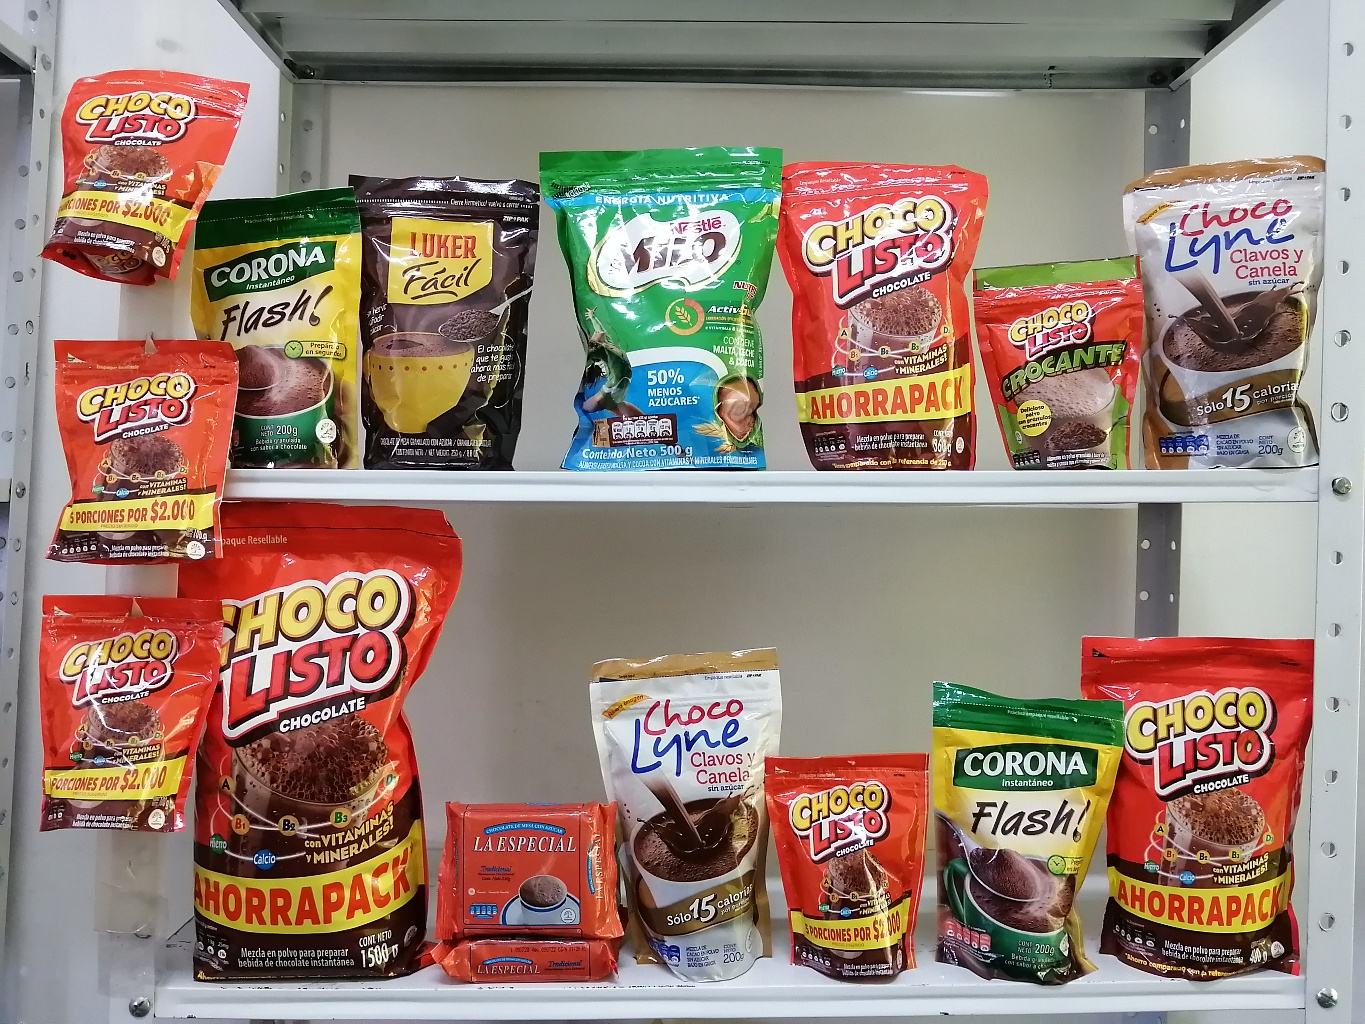COL0170102DYP10000: (953, 237, 1164, 482)
COL0170103DYP1,500: (163, 487, 472, 989)
COL0170103DYP10000: (756, 737, 938, 1000)
COL0170103DYP36000: (755, 147, 1007, 486)
COL0170103DYP40000: (1064, 612, 1328, 997)
COL0170205DYP50000: (528, 130, 801, 484)
